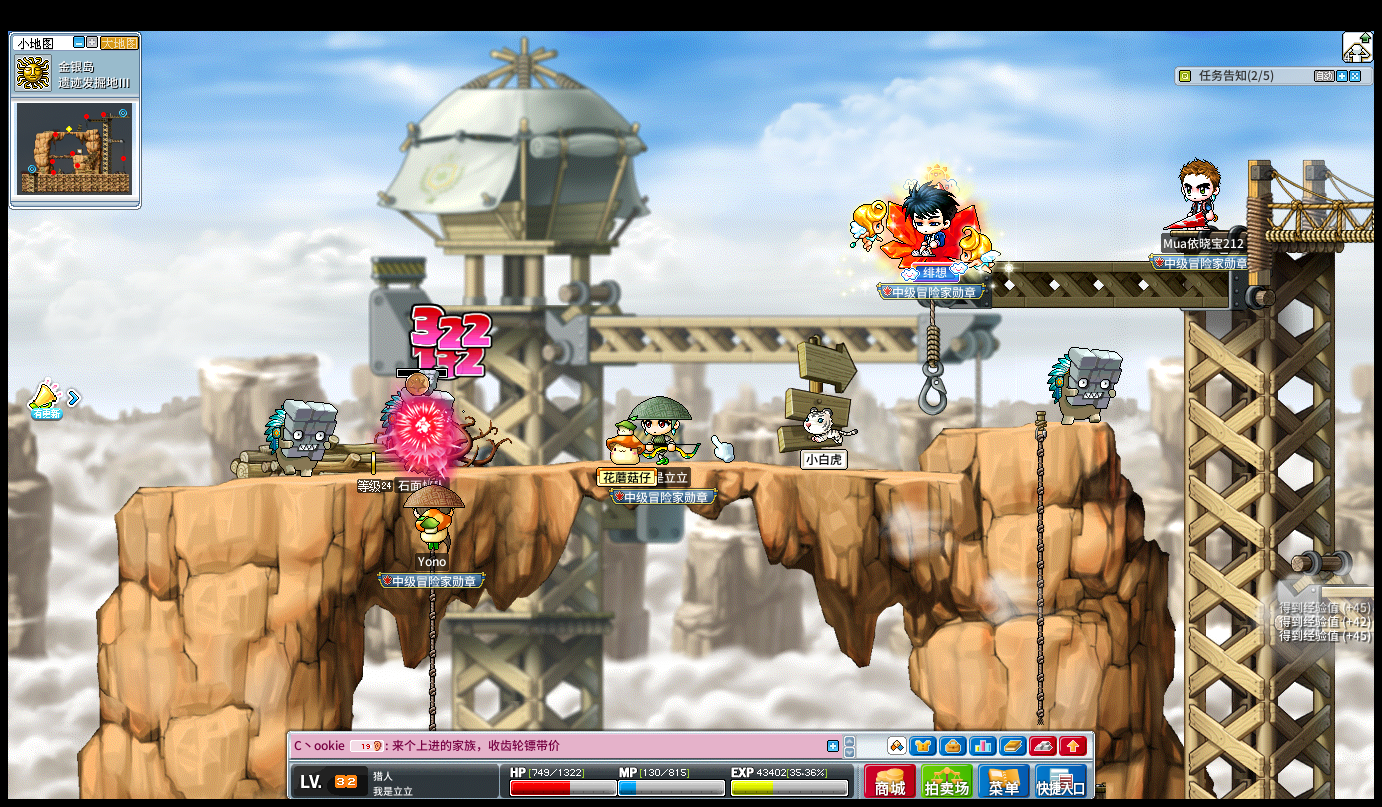floor: (113, 455, 997, 480), (406, 458, 923, 473), (945, 418, 1111, 433), (943, 421, 1107, 436), (1317, 582, 1376, 596)
monster: (380, 385, 461, 470), (1047, 345, 1122, 424), (263, 398, 336, 478)
rope: (1031, 410, 1047, 736), (424, 592, 438, 719)
